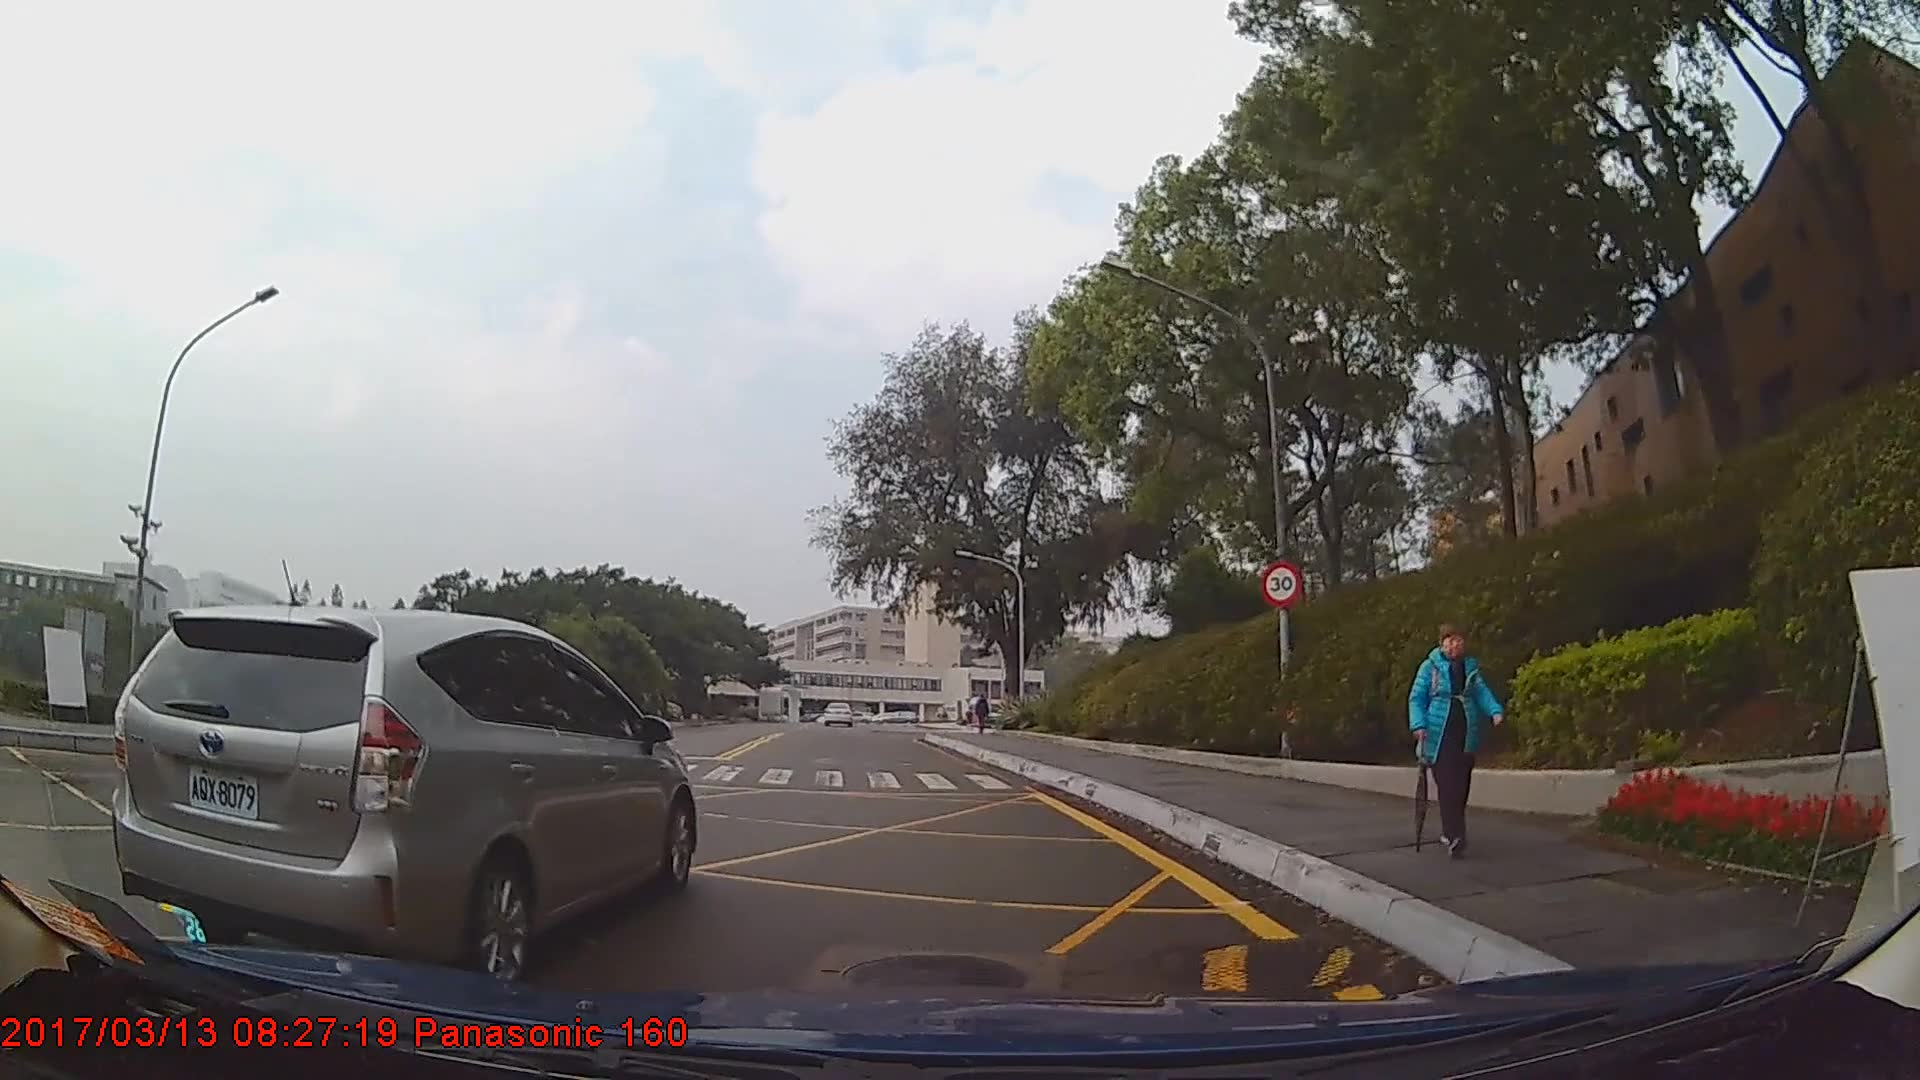pedestrian: (1399, 607, 1518, 873), (975, 695, 995, 737)
vehicle: (112, 609, 698, 986), (820, 699, 854, 726)
